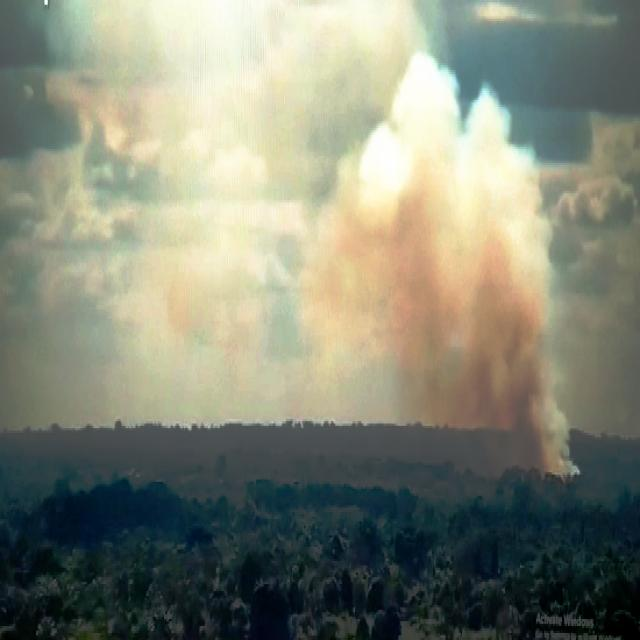asap: (295, 36, 594, 511)
